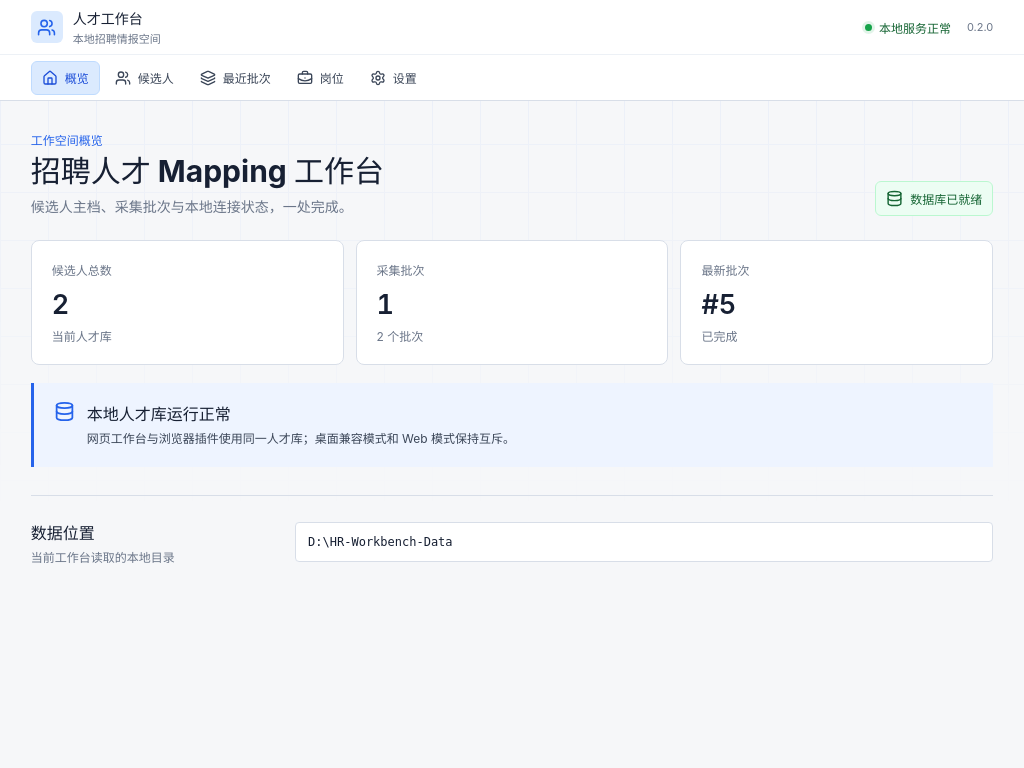
it: workbench candidate intake views › opens a batch by ID from the batch page even when it is not on the first page
The width and height of the screenshot is (1024, 768).
Click the button "最近批次" at (235, 78), box [189,60,282,94]
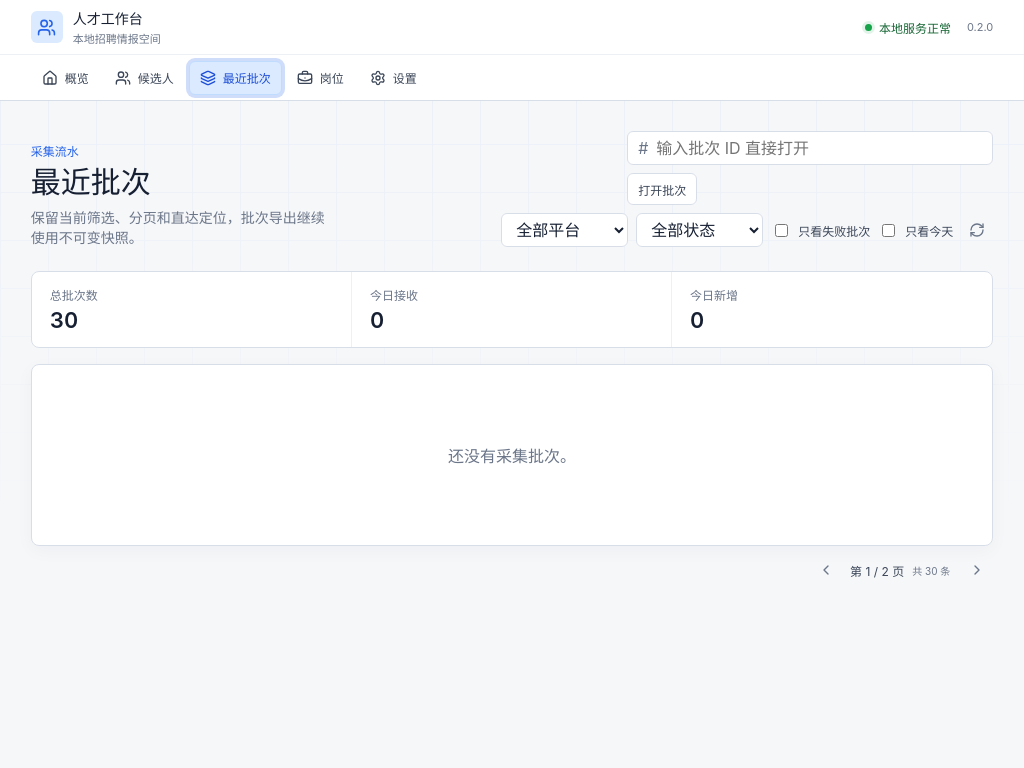
Type "24" into the field named "批次 ID 搜索" at (819, 148), box [656,138,982,158]
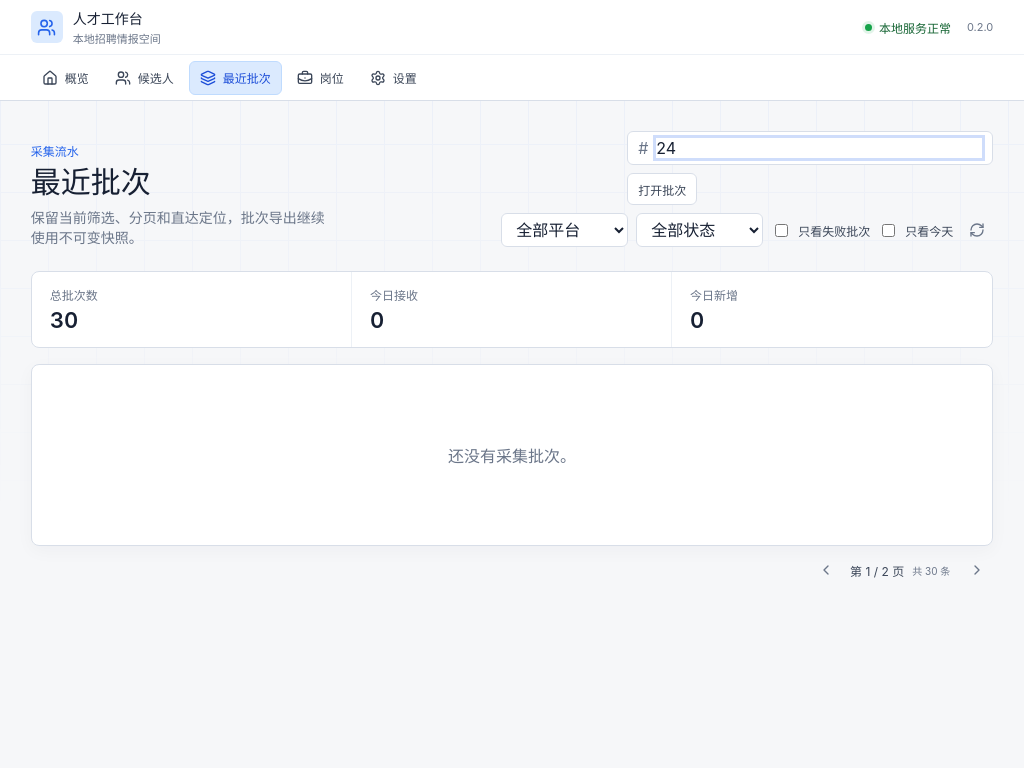
Click the button "打开批次" at (662, 189), box [627,173,697,205]
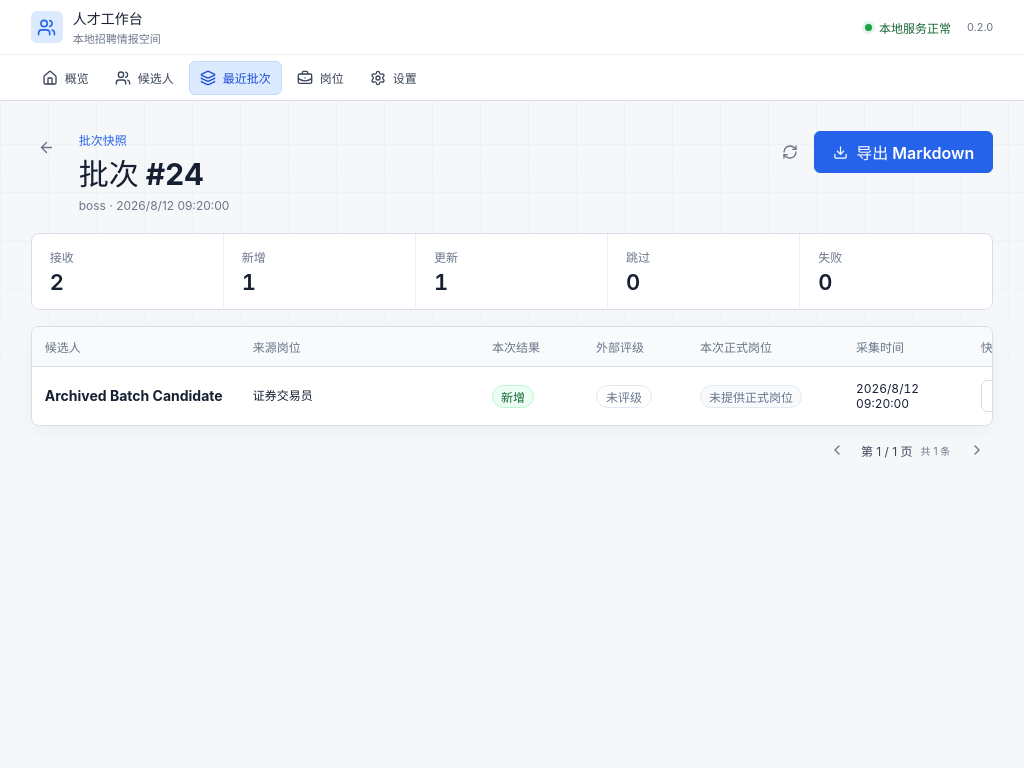
Now the heading "批次 #24" is shown, box [79,156,204,192]
Now the button "导出 Markdown" is shown, box [814,131,993,173]
Now the text "Archived Batch Candidate" is shown, box [45,386,227,405]
